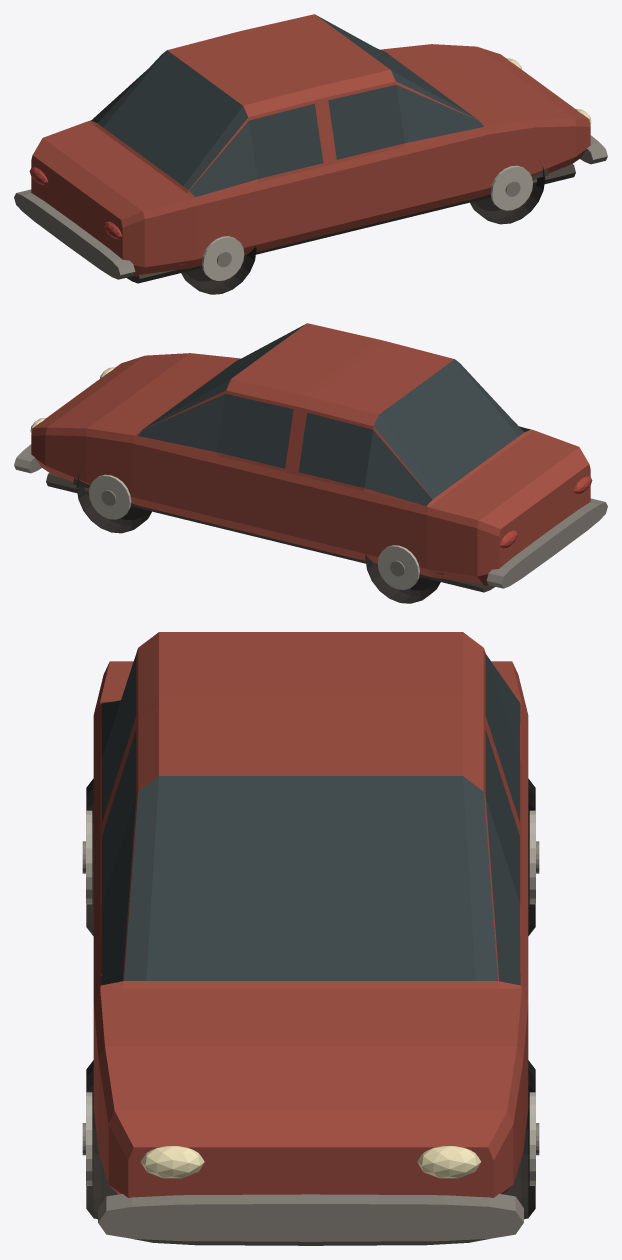
The model's file is sedan-kiremit.glb.
3 renders of one model, top to bottom at view 1: azimuth 30°, elevation 25°; view 2: azimuth 150°, elevation 25°; view 3: azimuth 270°, elevation 25°, orthographic. The views are drawn at different scales.
Parts seen in each view (by area): view 1: a_kiremit, cam, tampon, jant, lastik, ic, stop; view 2: a_kiremit, cam, tampon, jant, lastik, ic, stop; view 3: a_kiremit, cam, tampon, lastik, far, jant, ic.
Boxes of the visible parts, <box> form: a_kiremit: <box>31,14,590,276</box>; cam: <box>91,14,484,197</box>; tampon: <box>14,135,607,279</box>; jant: <box>202,165,532,280</box>; lastik: <box>181,159,545,294</box>; ic: <box>126,163,575,283</box>; stop: <box>29,167,122,239</box>; a_kiremit: <box>31,323,590,585</box>; cam: <box>137,323,530,506</box>; tampon: <box>14,444,607,588</box>; jant: <box>89,474,419,589</box>; lastik: <box>76,468,440,603</box>; ic: <box>46,472,495,592</box>; stop: <box>499,476,592,548</box>; a_kiremit: <box>93,632,528,1197</box>; cam: <box>101,654,520,985</box>; tampon: <box>82,841,539,1241</box>; lastik: <box>86,778,535,1219</box>; far: <box>141,1146,480,1178</box>; jant: <box>86,810,535,1185</box>; ic: <box>104,1172,517,1245</box>.
Size of the model in its own units: 4.56 by 1.51 by 1.85.
